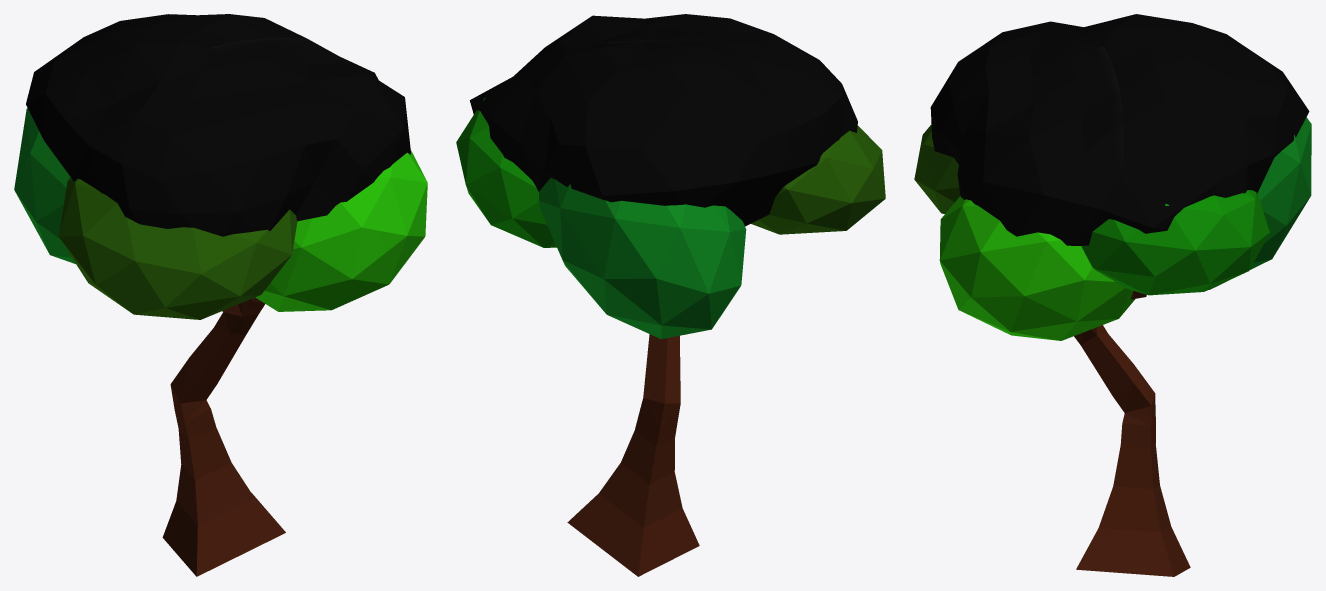
File: SnowTree2.fbx
The picture shows the model from 3 angles, left to right: view 1: azimuth 30°, elevation 25°; view 2: azimuth 150°, elevation 25°; view 3: azimuth 270°, elevation 25°; orthographic projection. The views are drawn at different scales.
Visible parts, largest first — view 1: snowtree2; view 2: snowtree2; view 3: snowtree2.
Part boxes in pixels (x1,y1,x2,y2): snowtree2: (14, 14, 427, 576); snowtree2: (456, 14, 885, 576); snowtree2: (914, 14, 1311, 576).
Size of the model in its own units: 580 by 821 by 557.
